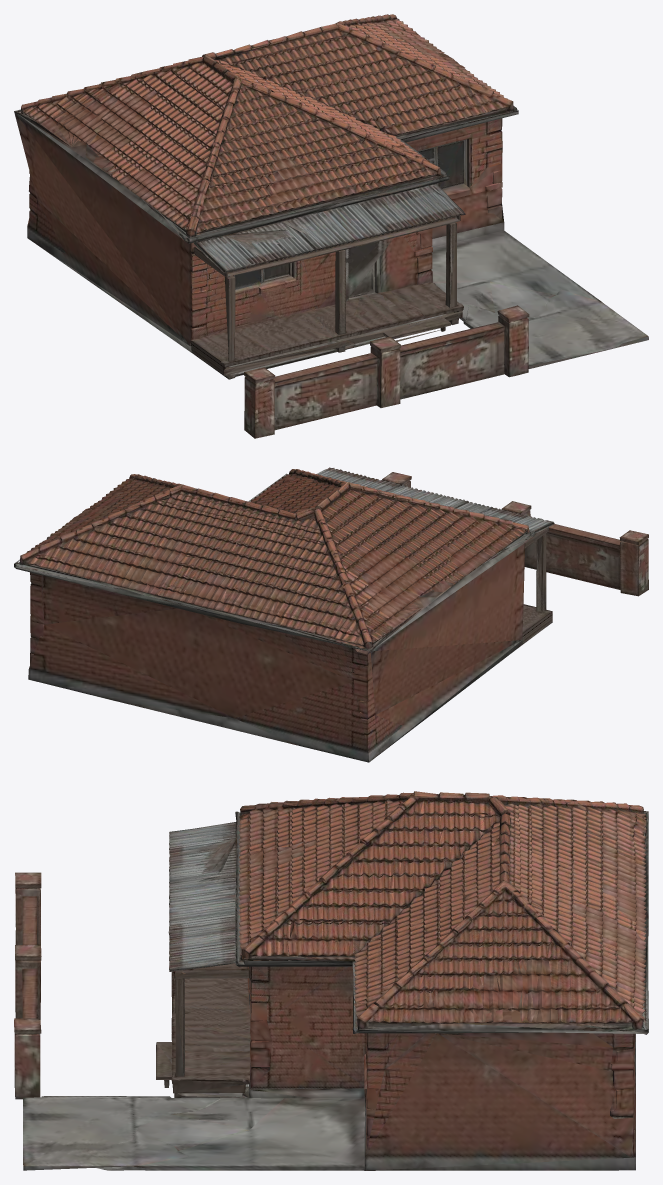
The model's file is house_brick.glb.
The picture shows the model from 3 angles, top to bottom: view 1: azimuth 30°, elevation 25°; view 2: azimuth 150°, elevation 25°; view 3: azimuth 270°, elevation 25°; orthographic projection. The views are drawn at different scales.
Bounding box in the file's own units: 1.65 × 0.7809 × 1.89.
1 material, 1 textured.
